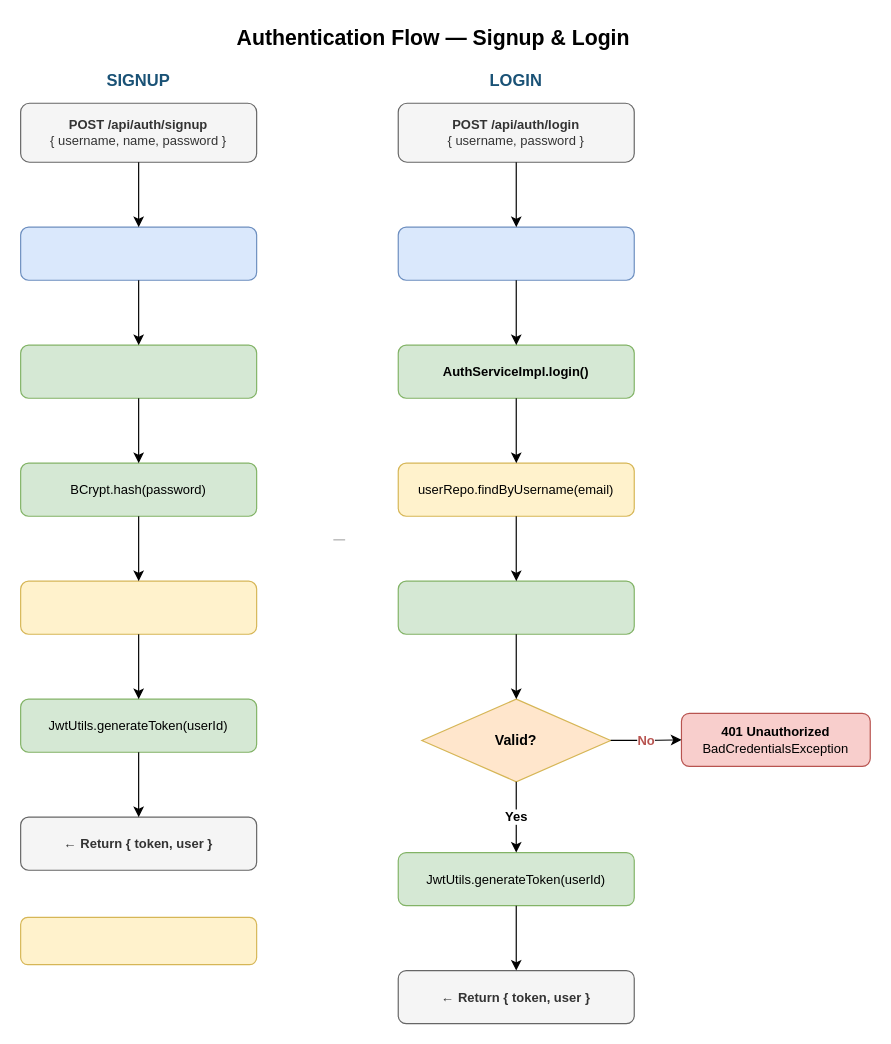
The diagram is 891 pixels wide and 1044 high, and some of its shapes have lost their labels. The centre of each missing label's shape, as x and y in pixels:
AuthController.login(): the point at 515,253
AuthController.signup(): the point at 138,253
AuthServiceImpl.signup(): the point at 138,371
BCrypt.matches(rawPwd, hash): the point at 515,607
JWT: HS256, 100-min expiry userId stored as String in claims: the point at 138,940
userRepository.save(user): the point at 138,607
